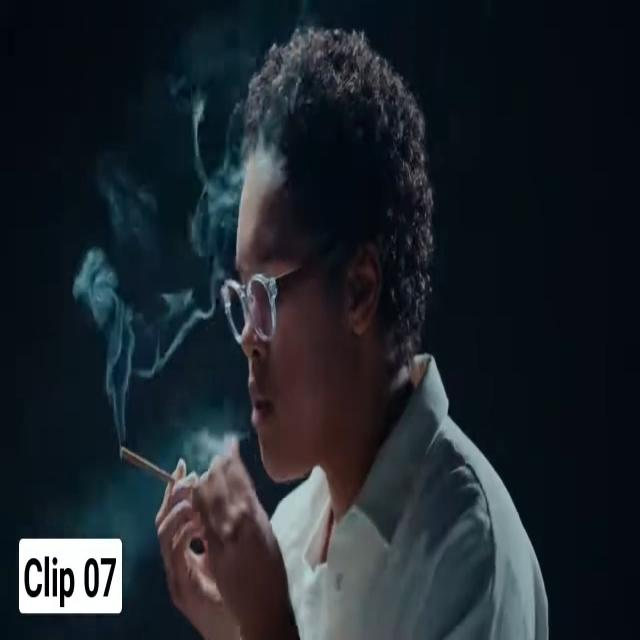Курение: (108, 428, 196, 503)
